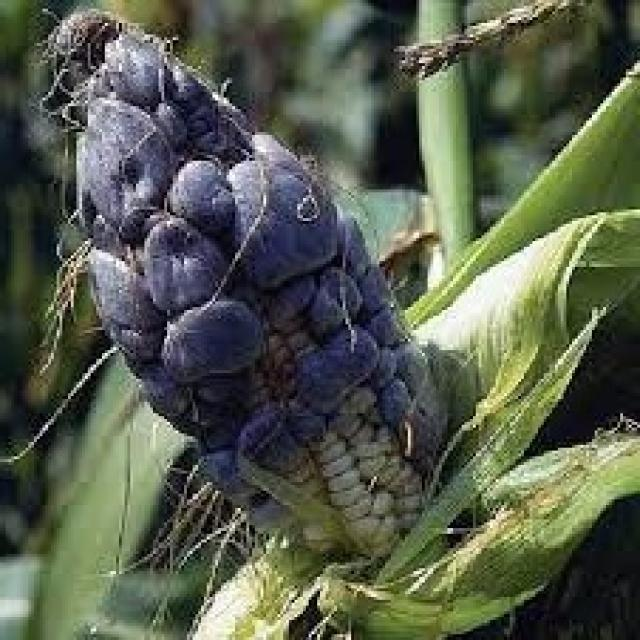Leaf_Scald: (9, 1, 534, 607)
